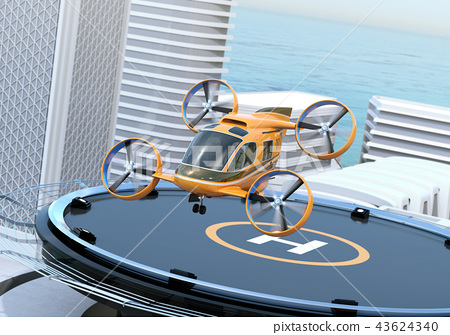H: (247, 229, 329, 255)
